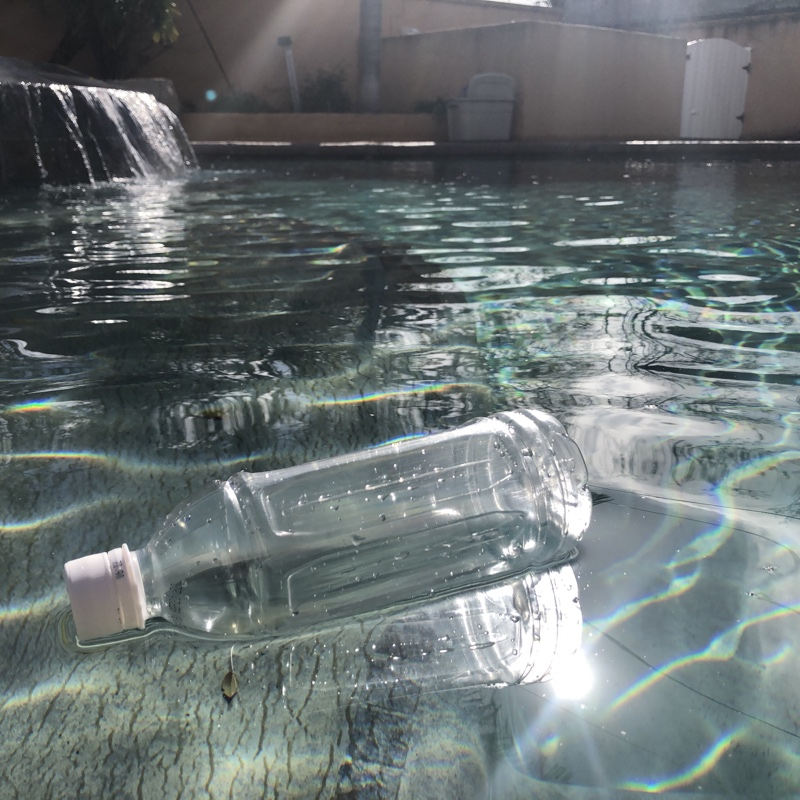Plastic Bottle: (56, 400, 598, 680)
